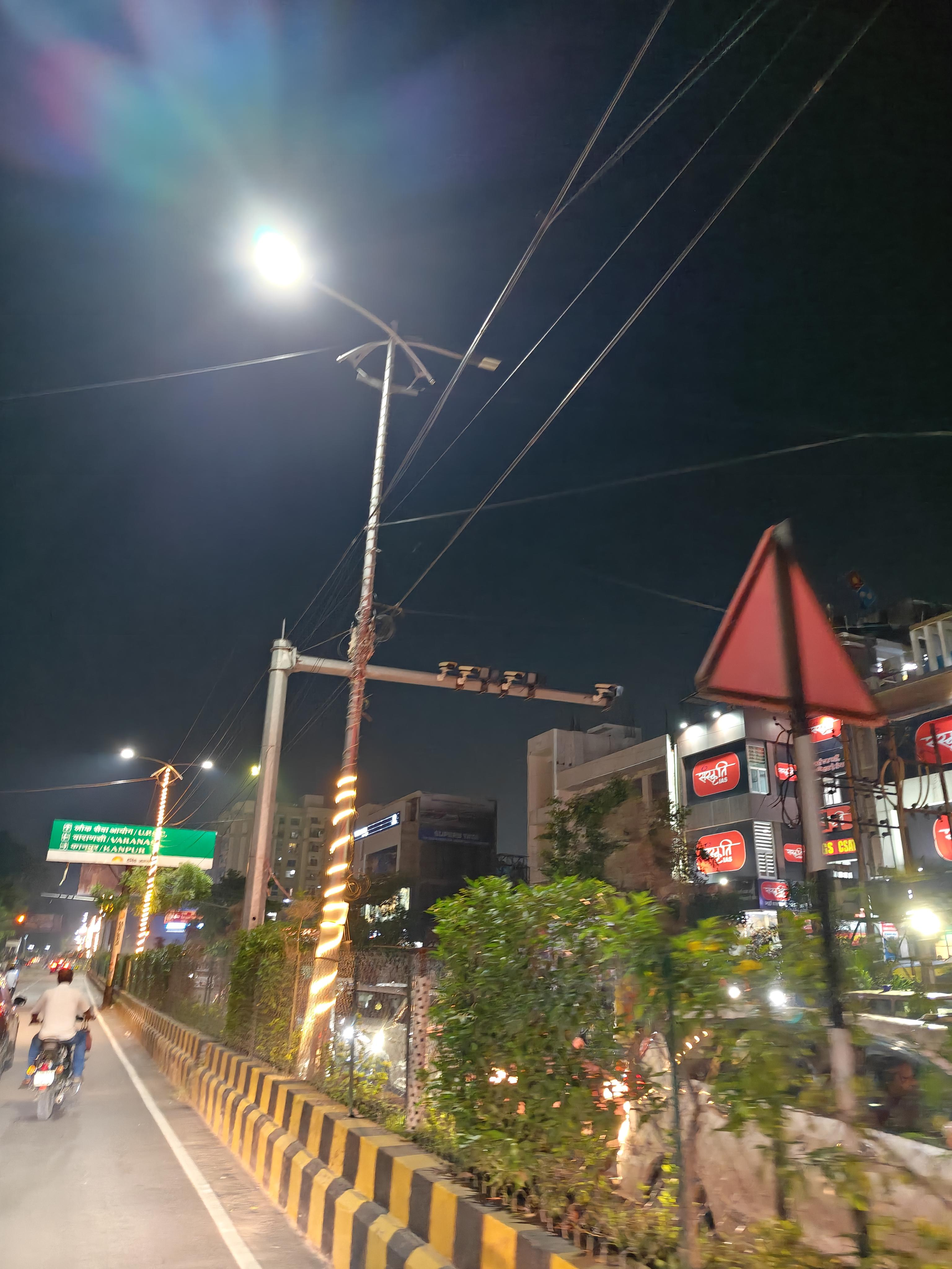streetlight: (472, 355, 502, 375)
